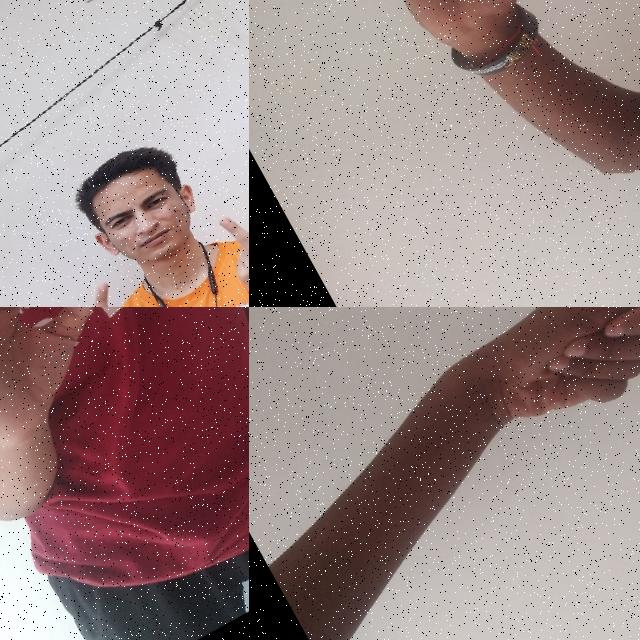Dulya: (433, 307, 640, 468)
Moutza: (320, 0, 635, 103)
Okay: (0, 307, 159, 492)
Reversed Victory: (202, 191, 249, 307), (43, 269, 166, 307)
